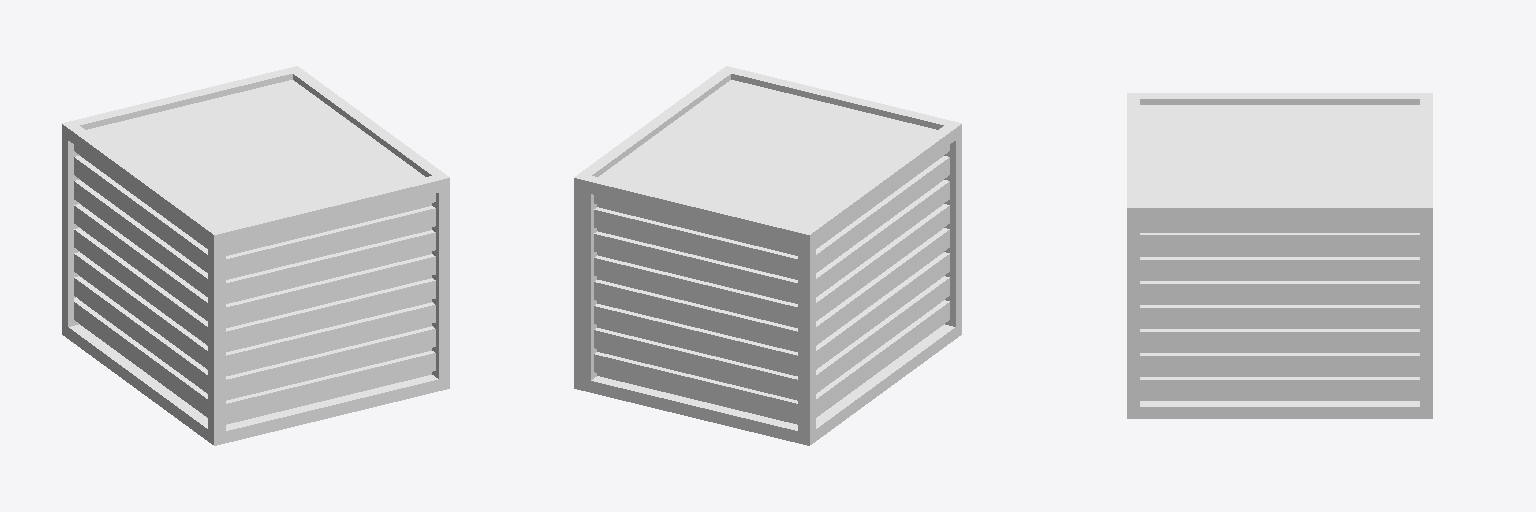
The model's file is z_kiste.obj.
3 views of the same model, side by side, from view 1: azimuth 30°, elevation 25°; view 2: azimuth 150°, elevation 25°; view 3: azimuth 270°, elevation 25° (orthographic).
Visible parts, largest first — view 1: object 1; view 2: object 1; view 3: object 1.
Boxes of the visible parts, x1,y1,x2,y2 form: object 1: [62, 66, 449, 445]; object 1: [574, 66, 961, 445]; object 1: [1127, 93, 1432, 418].
Bounding box in the file's own units: 4.1 × 3.5 × 4.6.